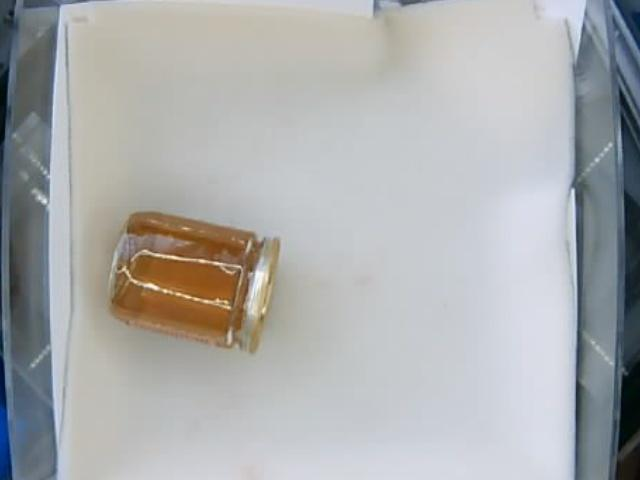Bottle: (108, 209, 281, 357)
